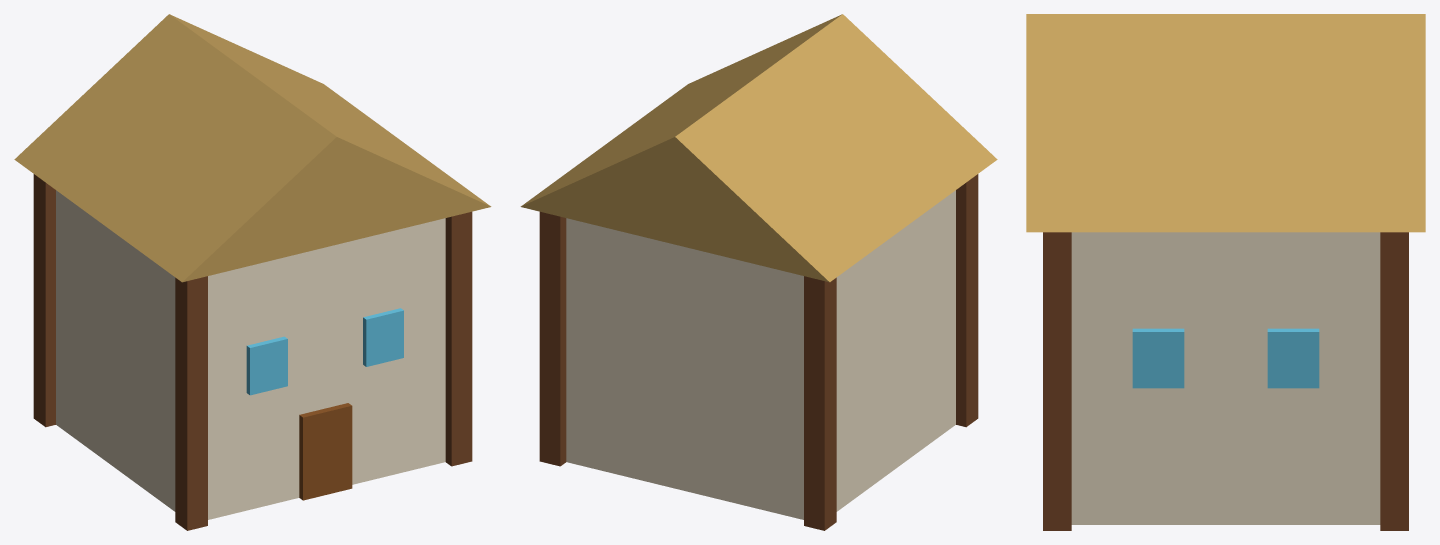
File: house_straw.glb
The picture shows the model from 3 angles, left to right: view 1: azimuth 30°, elevation 25°; view 2: azimuth 150°, elevation 25°; view 3: azimuth 270°, elevation 25°; orthographic projection. The views are drawn at different scales.
Visible parts, largest first — view 1: beams; view 2: beams; view 3: beams.
Boxes of the visible parts, x1,y1,x2,y2 form: beams: (14,14,491,530); beams: (520,14,997,530); beams: (1026,14,1425,530).
Size of the model in its own units: 1.64 by 1.85 by 1.54.
